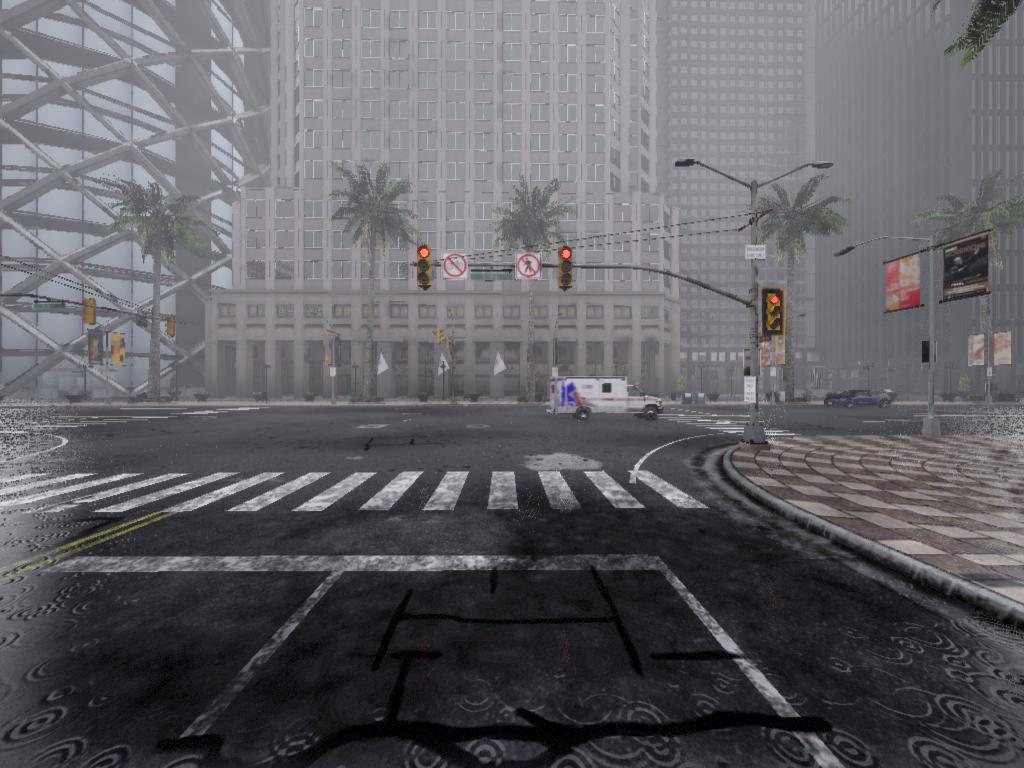traffic_light: (764, 290, 787, 336), (417, 249, 435, 291), (557, 251, 574, 293), (86, 301, 100, 328), (167, 314, 178, 340), (435, 329, 444, 347), (448, 333, 453, 353)
